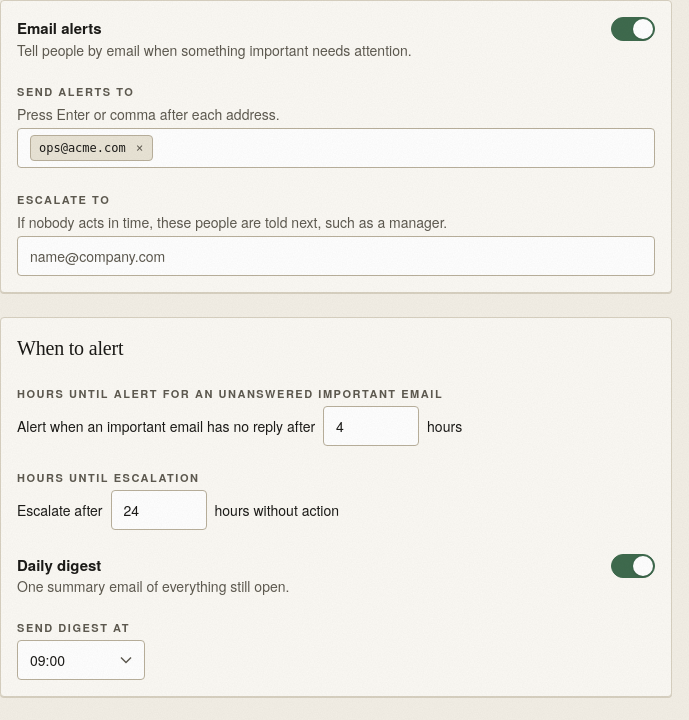
Test case: AlertSettingsPanel › rejects invalid email addresses and keeps valid ones as chips
Type "not-an-email" into the field labelled "Escalate to" at (336, 256), box [30,244,642,268]
Then press Enter
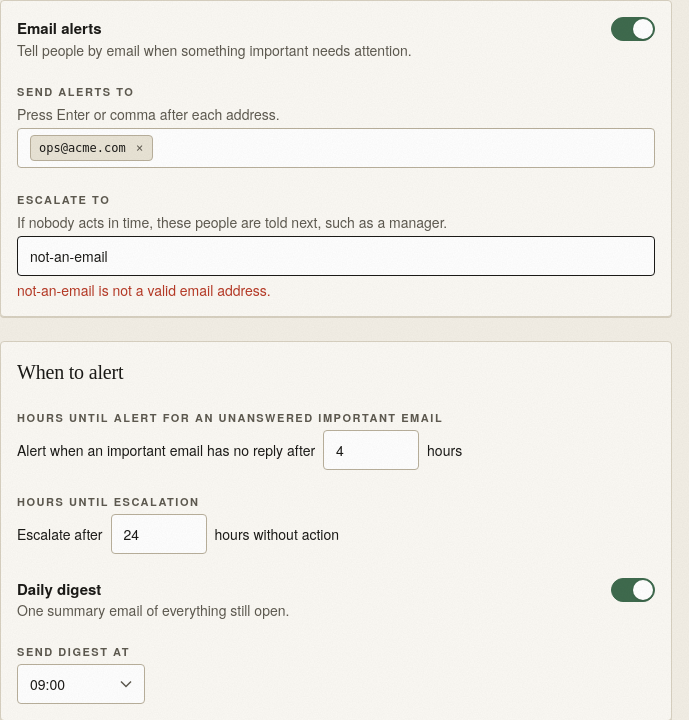
Result: the message shows "not-an-email is not a valid email address" at [17,280,271,300]
Replace the text in the field labelled "Escalate to" with "Boss@Acme.com" at (336, 256), box [30,244,642,268]
Then press Enter
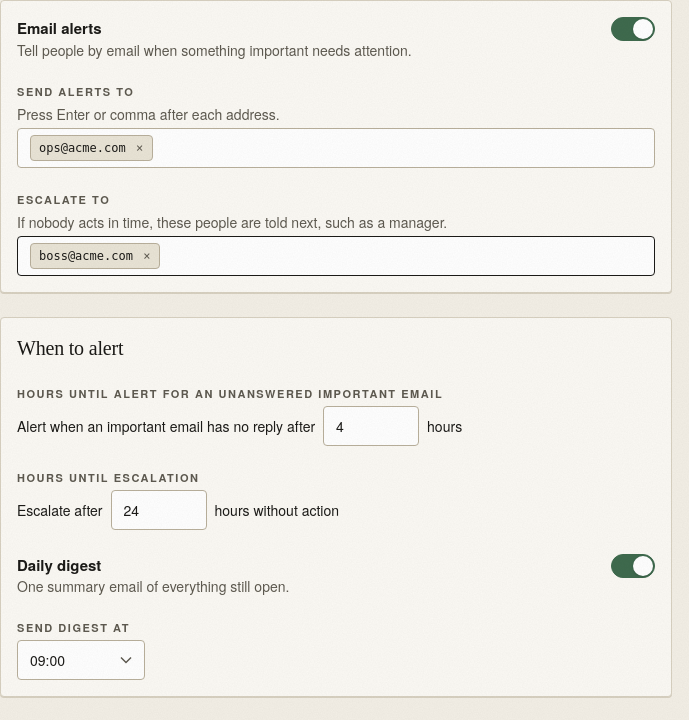
Expected: the text "not a valid email" is not shown
Result: the button named "Remove boss@acme.com" is shown at [137,246,157,266]
